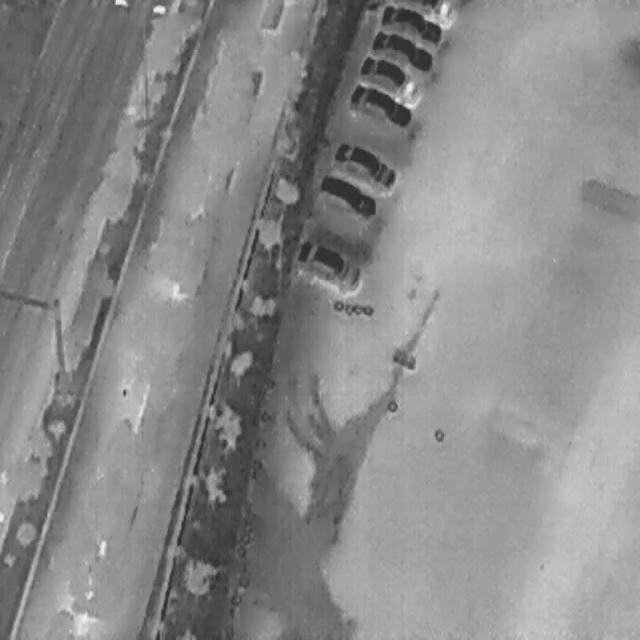Car: (287, 229, 365, 296), (312, 162, 384, 228), (330, 130, 402, 195), (344, 74, 417, 135), (353, 44, 423, 106), (367, 20, 437, 79), (378, 0, 446, 50), (402, 0, 455, 28)
